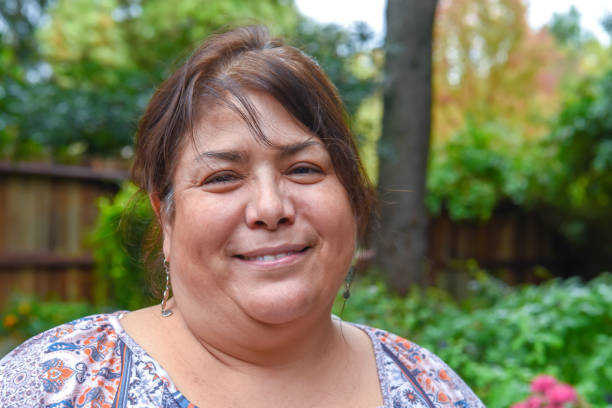face: (183, 126, 355, 327)
